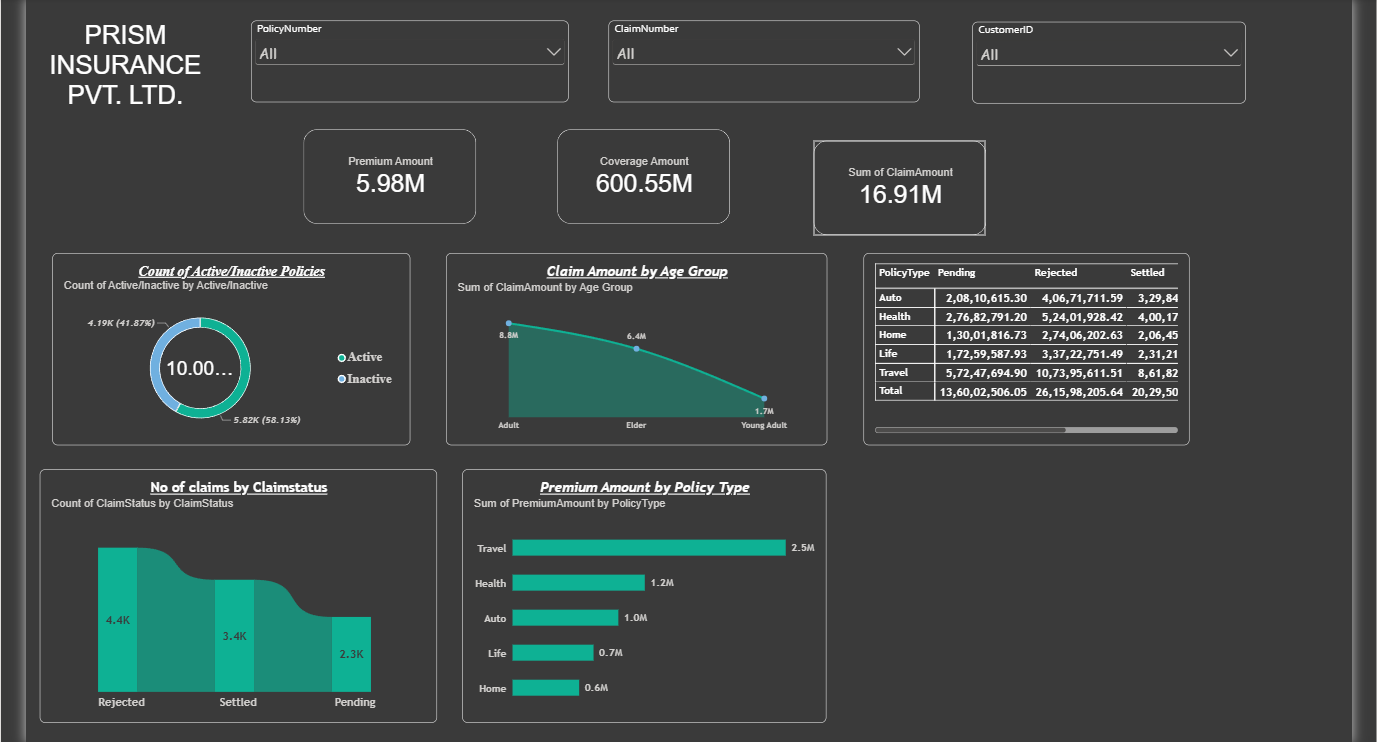

Layout of this report page (visuals, bound fields, positions):
{"tool":"powerbi","page":{"name":"Page 1","canvas":[1920,1080],"ordinal":0},"visuals":[{"type":"slicer","fields":{"Values":["InsuranceData.PolicyNumber"]},"box":[326,32,460,118],"z":0},{"type":"slicer","fields":{"Values":["InsuranceData.ClaimNumber"]},"box":[844,32,450,118],"z":1000},{"type":"slicer","fields":{"Values":["InsuranceData.CustomerID"]},"box":[1370,34,396,118],"z":2000},{"type":"textbox","box":[0,32.5,287.5,202.5],"z":3000},{"type":"cardVisual","fields":{"Data":["Sum(InsuranceData.PremiumAmount)"]},"box":[402,190,250,137.5],"z":4000},{"type":"cardVisual","fields":{"Data":["Sum(InsuranceData.CoverageAmount)"]},"box":[770,190,250,137.5],"z":5000},{"type":"cardVisual","fields":{"Data":["Sum(InsuranceData.ClaimAmount)"]},"box":[1140,206,250,137.5],"z":6000},{"type":"ribbonChart","title":"No  of claims by Claimstatus ","fields":{"Category":["InsuranceData.ClaimStatus"],"Y":["CountNonNull(InsuranceData.ClaimStatus)"]},"box":[20,682,575,367.5],"z":7000},{"type":"barChart","title":"Premium Amount by Policy Type","fields":{"Category":["InsuranceData.PolicyType"],"Y":["Sum(InsuranceData.PremiumAmount)"]},"box":[632,682,527.5,367.5],"z":8000},{"type":"lineChart","title":"Claim Amount by Age Group","fields":{"Category":["InsuranceData.Age Group"],"Y":["Sum(InsuranceData.ClaimAmount)"]},"box":[608,370,552,278],"z":9000},{"type":"donutChart","title":"Count of Active/Inactive Policies","fields":{"Category":["InsuranceData.Active/Inactive"],"Y":["CountNonNull(InsuranceData.Active/Inactive)"]},"box":[38,370,518,278],"z":10000},{"type":"pivotTable","fields":{"Columns":["InsuranceData.ClaimStatus"],"Rows":["InsuranceData.PolicyType"],"Values":["Sum(InsuranceData.CoverageAmount)"]},"box":[1212,370,472,278],"z":11000}]}

Visuals, with their boxes on the page's 1920x1080 design canvas (x1, y1, x2, y2). These are canvas units, not pixel positions in the 1377x742 screenshot, which may show the page scaled, cropped or inside an application window:
slicer - InsuranceData.PolicyNumber: (x1=326, y1=32, x2=786, y2=150)
slicer - InsuranceData.ClaimNumber: (x1=844, y1=32, x2=1294, y2=150)
slicer - InsuranceData.CustomerID: (x1=1370, y1=34, x2=1766, y2=152)
textbox: (x1=0, y1=32, x2=288, y2=235)
cardVisual - Sum(InsuranceData.PremiumAmount): (x1=402, y1=190, x2=652, y2=328)
cardVisual - Sum(InsuranceData.CoverageAmount): (x1=770, y1=190, x2=1020, y2=328)
cardVisual - Sum(InsuranceData.ClaimAmount): (x1=1140, y1=206, x2=1390, y2=344)
"No  of claims by Claimstatus " ribbonChart: (x1=20, y1=682, x2=595, y2=1050)
"Premium Amount by Policy Type" barChart: (x1=632, y1=682, x2=1160, y2=1050)
"Claim Amount by Age Group" lineChart: (x1=608, y1=370, x2=1160, y2=648)
"Count of Active/Inactive Policies" donutChart: (x1=38, y1=370, x2=556, y2=648)
pivotTable - InsuranceData.ClaimStatus x InsuranceData.PolicyType: (x1=1212, y1=370, x2=1684, y2=648)
